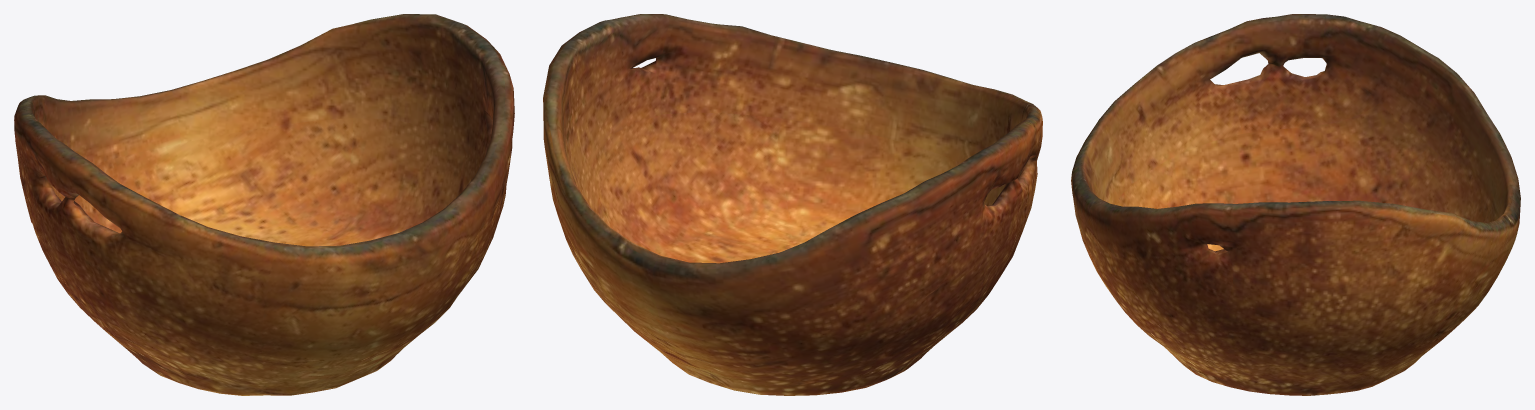
The model's file is wooden-bowl.glb.
3 renders of one model, left to right at view 1: azimuth 30°, elevation 25°; view 2: azimuth 150°, elevation 25°; view 3: azimuth 270°, elevation 25°, orthographic. The views are drawn at different scales.
Parts seen in each view (by area): view 1: wooden_bowl_02; view 2: wooden_bowl_02; view 3: wooden_bowl_02.
Boxes of the visible parts, bbox=[...] form: wooden_bowl_02: bbox=[14, 14, 514, 395]; wooden_bowl_02: bbox=[543, 14, 1042, 395]; wooden_bowl_02: bbox=[1071, 14, 1520, 395].
Size of the model in its own units: 0.1307 by 0.0731 by 0.1245.
Materials: 1 (1 with a texture image).
